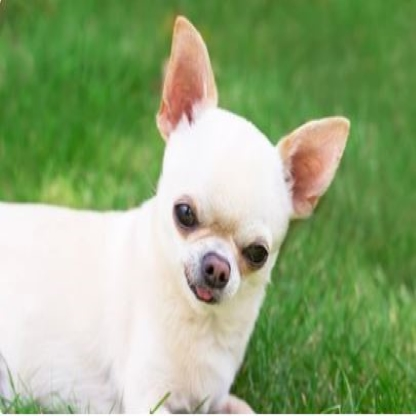chihuahua: (3, 16, 354, 406)
